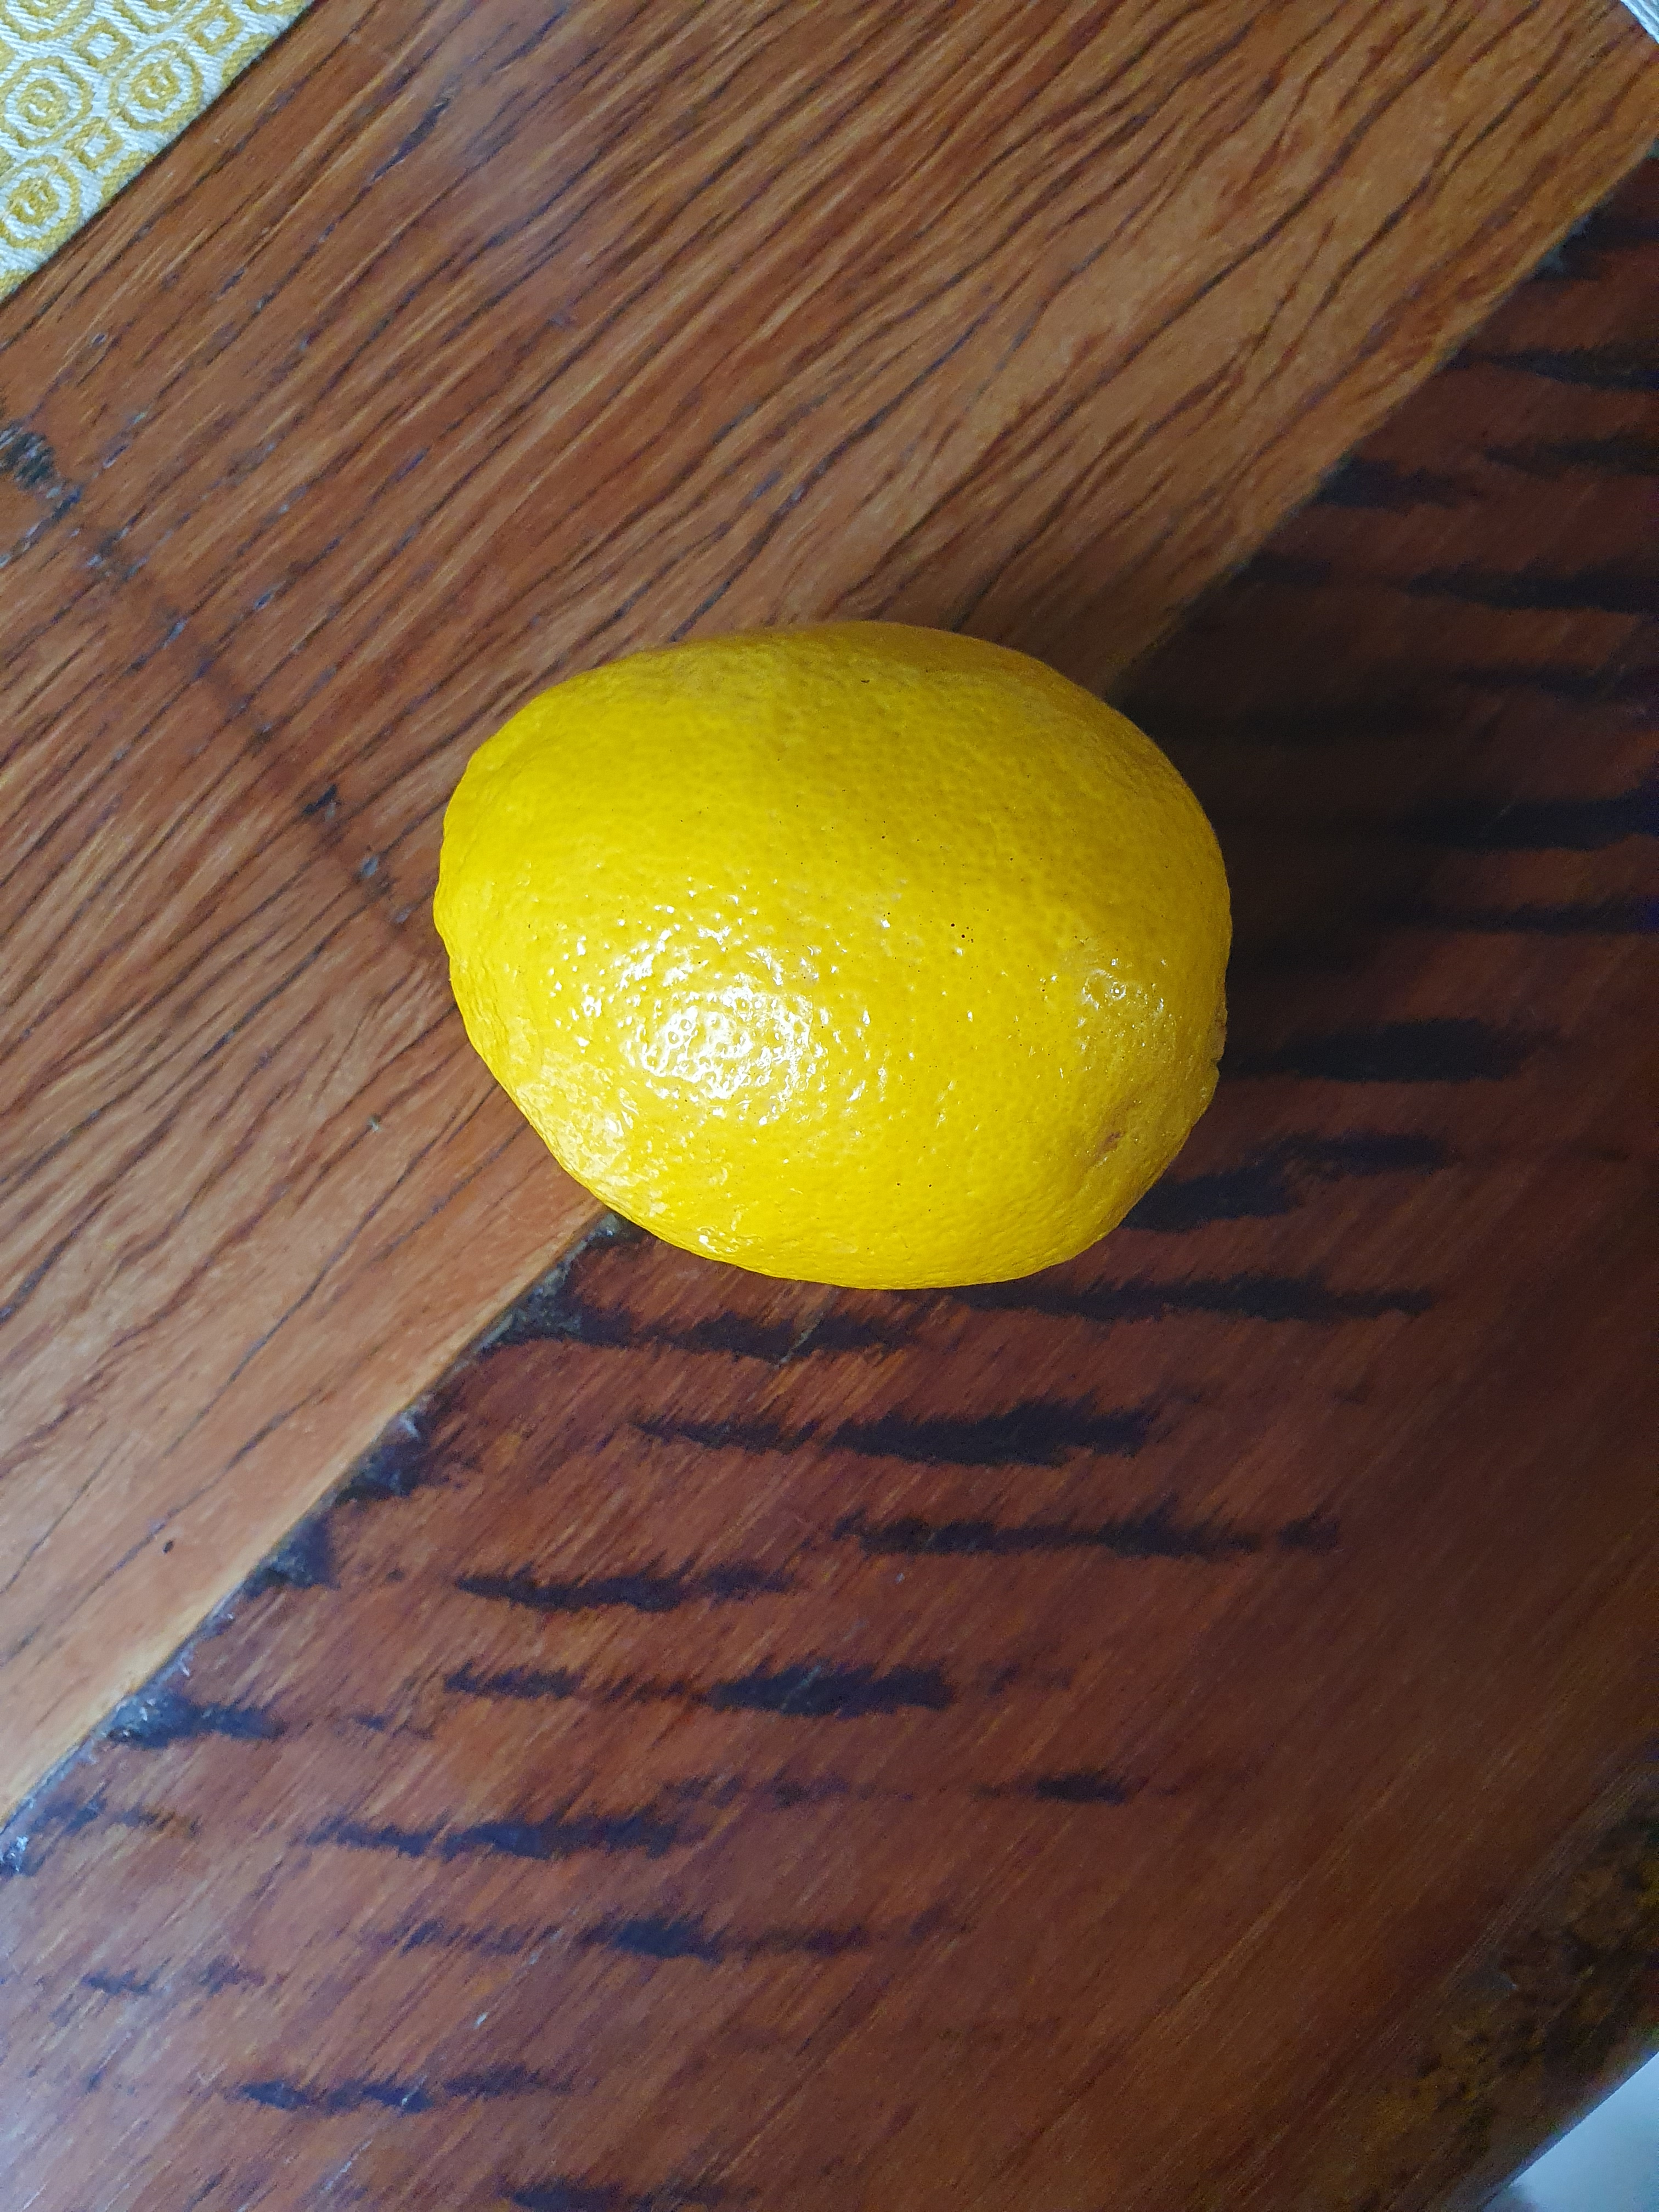lemon: (392, 622, 1340, 1298)
